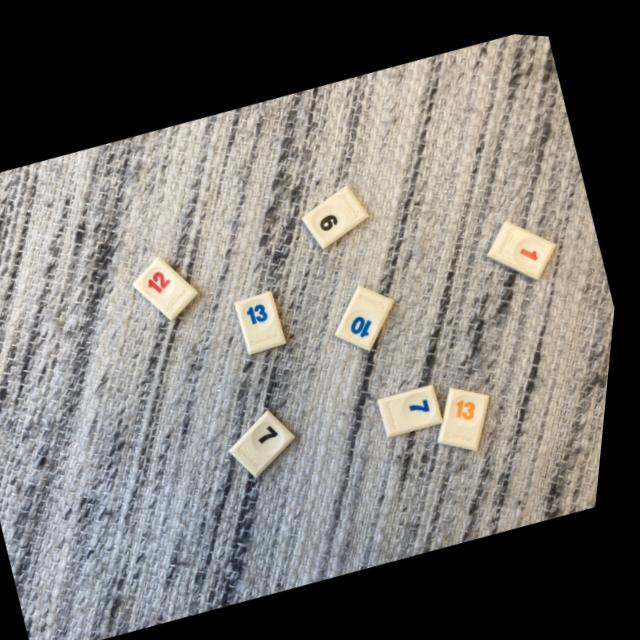black_7: (238, 406, 303, 472)
black_9: (307, 180, 372, 244)
blue_10: (342, 280, 399, 344)
blue_13: (241, 286, 291, 350)
blue_7: (385, 378, 450, 431)
orange_13: (446, 380, 496, 442)
red_1: (491, 213, 560, 271)
red_12: (138, 254, 203, 317)
